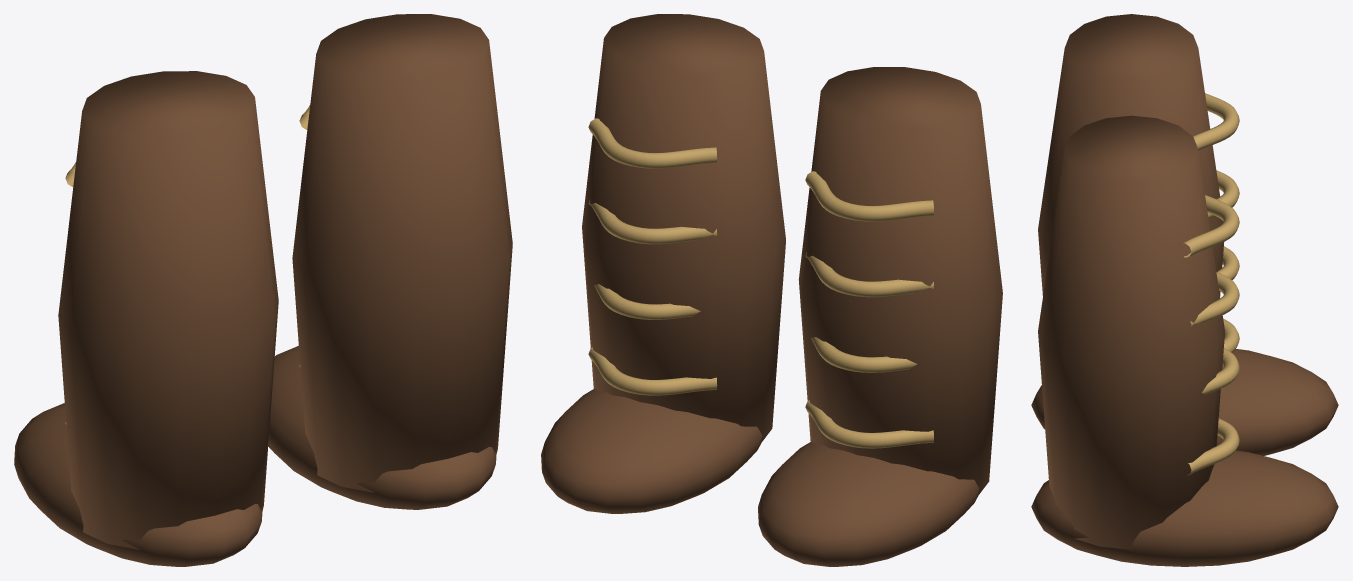
Rendered from trail_boots.glb.
3 renders of one model, left to right at view 1: azimuth 30°, elevation 25°; view 2: azimuth 150°, elevation 25°; view 3: azimuth 270°, elevation 25°, orthographic. The views are drawn at different scales.
Visible parts, largest first — view 1: Articulated shell, Articulated shell.001, Leather sole, Leather sole.001; view 2: Articulated shell.001, Articulated shell, Leather sole, Leather sole.001, Panel piping.003, Panel piping.007, Panel piping, Panel piping.004, Panel piping.006, Panel piping.002, Panel piping.001, Panel piping.005; view 3: Articulated shell.001, Articulated shell, Leather sole.001, Leather sole, Panel piping.007, Panel piping.003, Panel piping.004, Panel piping.006, Panel piping.005, Panel piping.002, Panel piping.001, Panel piping.
Part boxes in pixels (left/top/right/bottom): Articulated shell: left=58, top=71, right=278, bottom=549; Articulated shell.001: left=292, top=14, right=512, bottom=492; Leather sole: left=14, top=403, right=262, bottom=566; Leather sole.001: left=268, top=346, right=496, bottom=509; Articulated shell.001: left=582, top=14, right=785, bottom=442; Articulated shell: left=798, top=67, right=1002, bottom=495; Leather sole: left=758, top=442, right=979, bottom=566; Leather sole.001: left=541, top=389, right=762, bottom=513; Panel piping.003: left=805, top=171, right=933, bottom=221; Panel piping.007: left=588, top=118, right=717, bottom=168; Panel piping: left=805, top=400, right=933, bottom=448; Panel piping.004: left=588, top=347, right=717, bottom=395; Panel piping.006: left=588, top=199, right=717, bottom=244; Panel piping.002: left=805, top=252, right=933, bottom=297; Panel piping.001: left=811, top=337, right=917, bottom=372; Panel piping.005: left=594, top=284, right=700, bottom=319; Articulated shell.001: left=1038, top=115, right=1224, bottom=549; Articulated shell: left=1038, top=14, right=1223, bottom=296; Leather sole.001: left=1031, top=450, right=1338, bottom=566; Leather sole: left=1031, top=349, right=1338, bottom=455; Panel piping.007: left=1183, top=195, right=1239, bottom=257; Panel piping.003: left=1193, top=93, right=1239, bottom=150; Panel piping.004: left=1188, top=418, right=1239, bottom=475; Panel piping.006: left=1190, top=272, right=1239, bottom=326; Panel piping.005: left=1202, top=348, right=1239, bottom=394; Panel piping.002: left=1207, top=170, right=1239, bottom=218; Panel piping.001: left=1217, top=246, right=1239, bottom=280; Panel piping: left=1223, top=319, right=1239, bottom=352.
Bounding box in the file's own units: 0.66 × 0.665 × 0.46.
